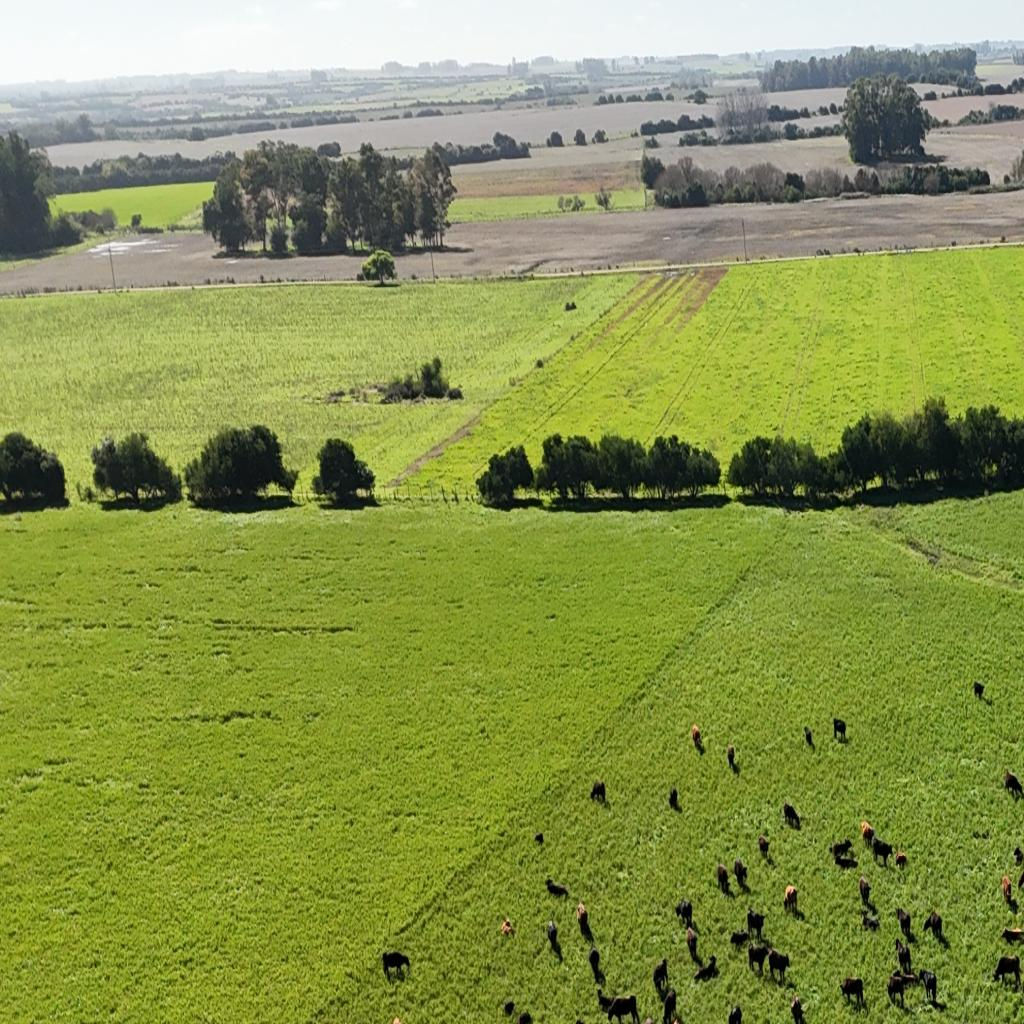cow: (886, 972, 916, 1008), (605, 993, 639, 1024), (993, 954, 1022, 989), (382, 950, 410, 981), (840, 976, 865, 1010), (767, 948, 790, 982), (748, 942, 769, 974), (693, 957, 717, 983), (747, 908, 766, 940), (920, 969, 937, 1003), (1004, 771, 1023, 801), (896, 940, 912, 975), (873, 838, 893, 866), (662, 988, 677, 1024), (924, 910, 942, 940), (896, 907, 912, 940), (548, 928, 562, 965), (653, 957, 668, 991), (830, 839, 853, 861), (546, 878, 569, 899), (596, 989, 614, 1015), (1000, 925, 1024, 944), (861, 910, 881, 932), (590, 780, 607, 805), (676, 899, 692, 925), (784, 802, 800, 828), (588, 945, 600, 979), (733, 859, 747, 888), (790, 995, 804, 1023), (686, 926, 698, 958), (730, 929, 750, 948), (836, 852, 857, 870), (898, 968, 919, 986), (861, 821, 875, 847), (784, 884, 797, 912), (717, 863, 729, 893), (833, 717, 847, 742), (859, 876, 871, 904), (1002, 875, 1012, 905), (728, 1004, 742, 1024), (548, 919, 558, 946), (758, 835, 769, 857), (577, 903, 588, 925), (888, 968, 903, 984), (501, 918, 514, 936), (895, 850, 907, 869), (692, 724, 702, 746), (804, 727, 814, 747), (669, 787, 678, 809), (503, 1000, 515, 1016), (974, 681, 984, 699), (695, 733, 704, 753), (727, 744, 735, 765), (518, 1012, 532, 1024), (732, 751, 740, 771), (534, 832, 544, 844), (1018, 846, 1024, 864), (1020, 868, 1024, 889), (829, 843, 835, 857), (574, 1018, 585, 1024)
